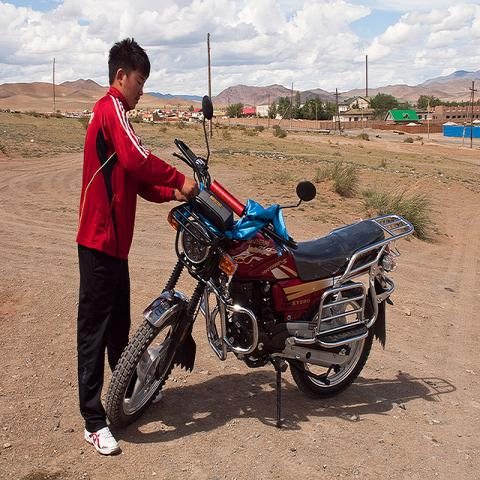motorcycle: (104, 98, 414, 432)
